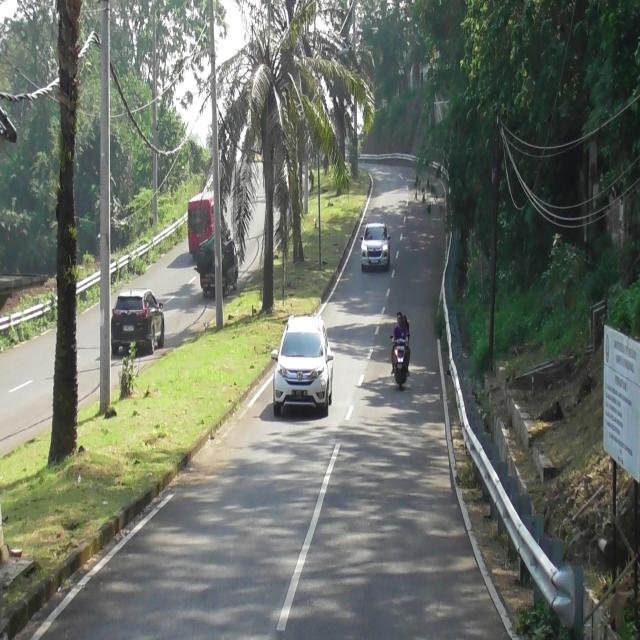motorcycle: (390, 332, 408, 388)
person: (391, 312, 409, 374), (402, 314, 410, 338)
rider_region: (391, 309, 414, 398)
